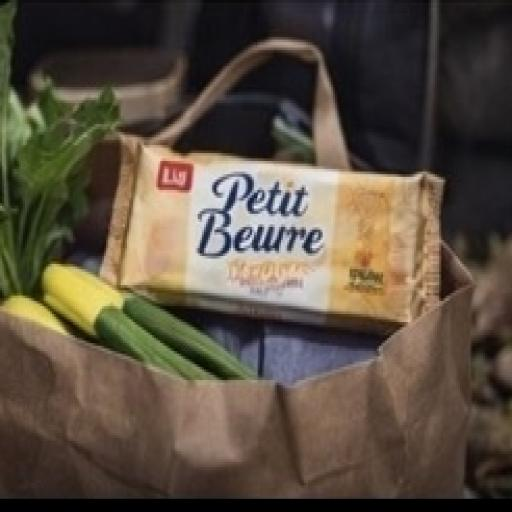petit-beurre: (70, 97, 481, 361)
